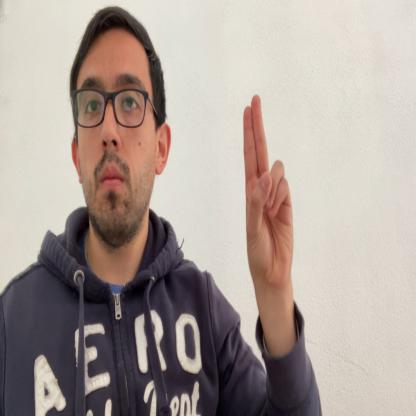U: (244, 94, 293, 295)
